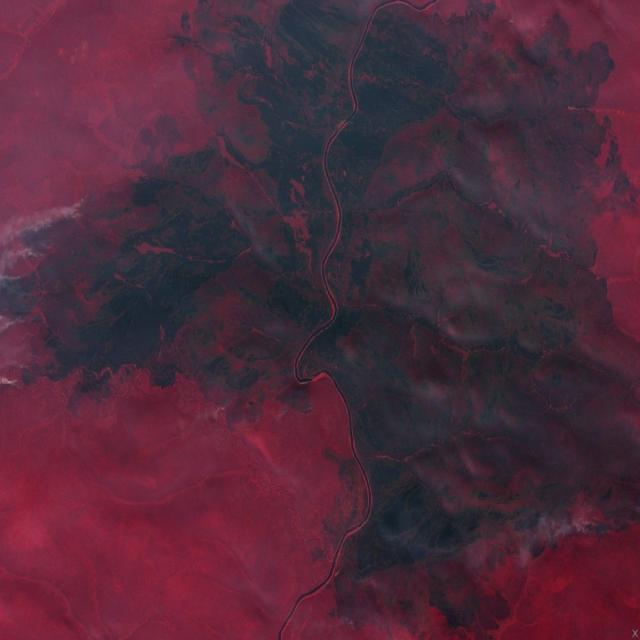fire: (0, 180, 97, 408), (521, 474, 640, 557), (203, 360, 330, 432), (337, 598, 368, 638)
